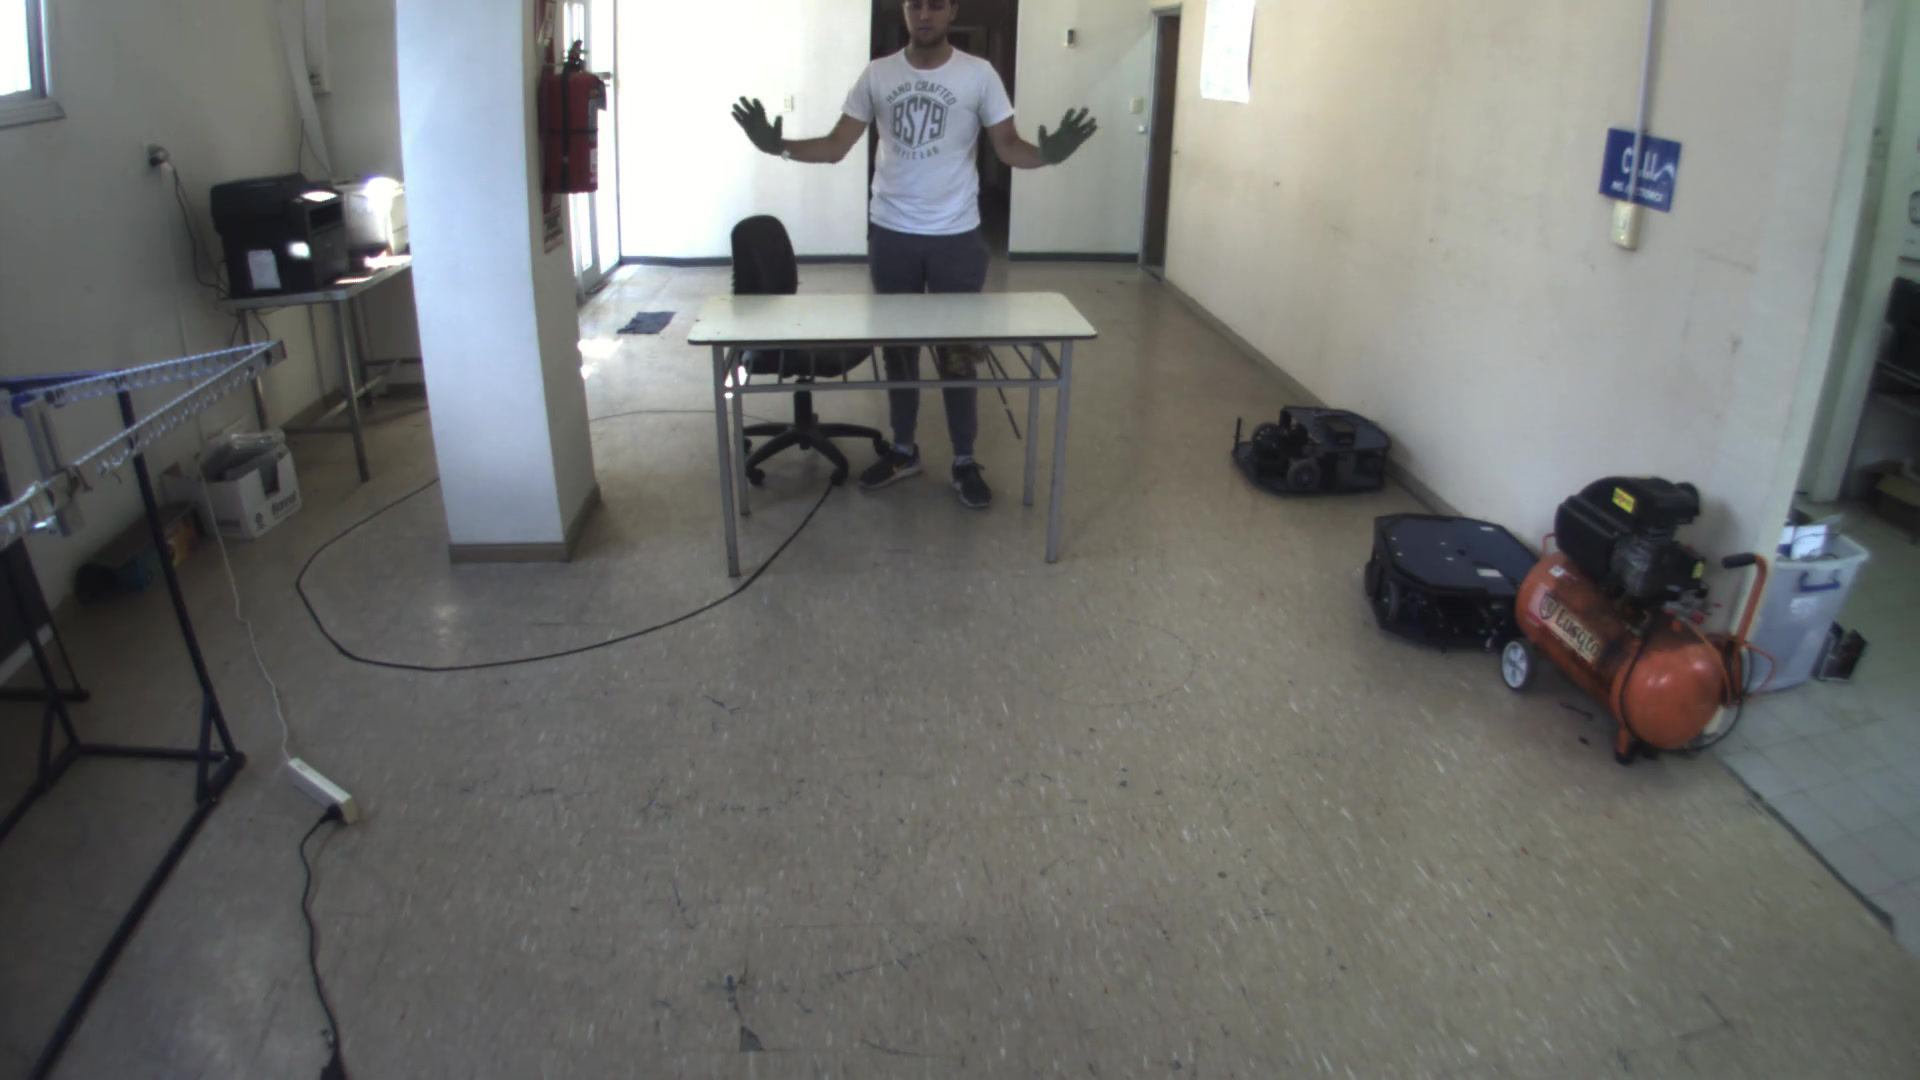hand: (1030, 104, 1112, 171), (724, 91, 796, 160)
